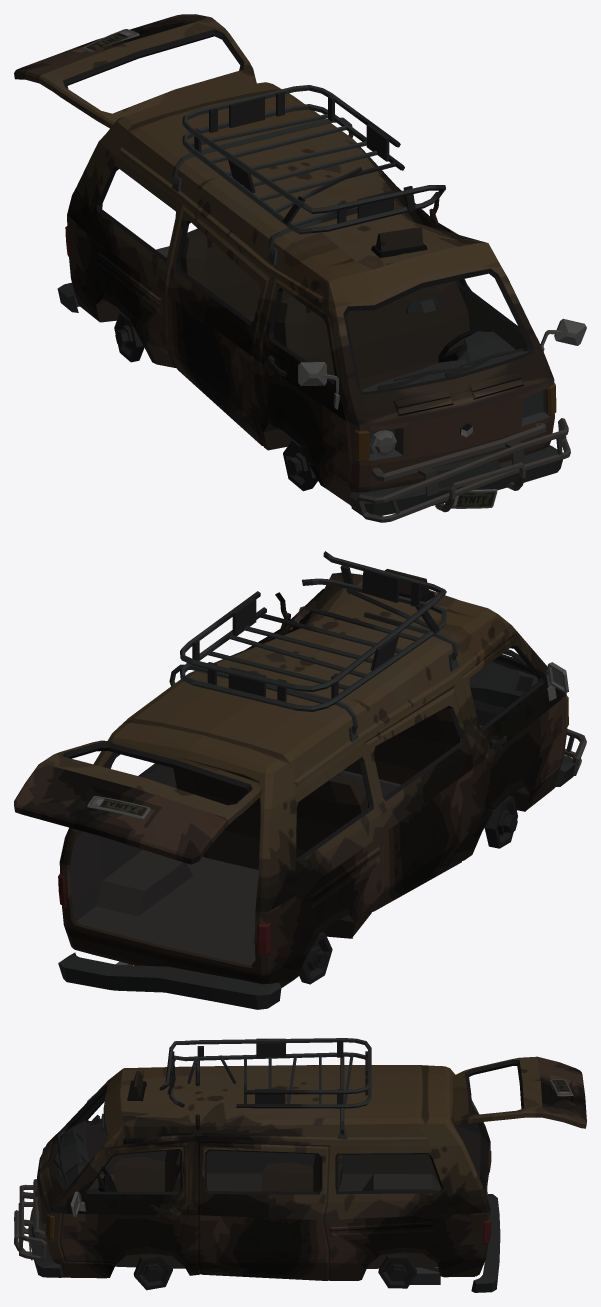
The model's file is SM_Veh_Van_Destroyed_02.fbx.
3 renders of one model, top to bottom at view 1: azimuth 30°, elevation 25°; view 2: azimuth 150°, elevation 25°; view 3: azimuth 270°, elevation 25°, orthographic. The views are drawn at different scales.
Visible parts, largest first — view 1: SM_Veh_Van_Destroyed_02; view 2: SM_Veh_Van_Destroyed_02; view 3: SM_Veh_Van_Destroyed_02.
Boxes of the visible parts, <box> form: SM_Veh_Van_Destroyed_02: <box>14,14,586,522</box>; SM_Veh_Van_Destroyed_02: <box>14,551,586,1009</box>; SM_Veh_Van_Destroyed_02: <box>14,1038,586,1292</box>.
Bounding box in the file's own units: 233 × 213 × 561.
